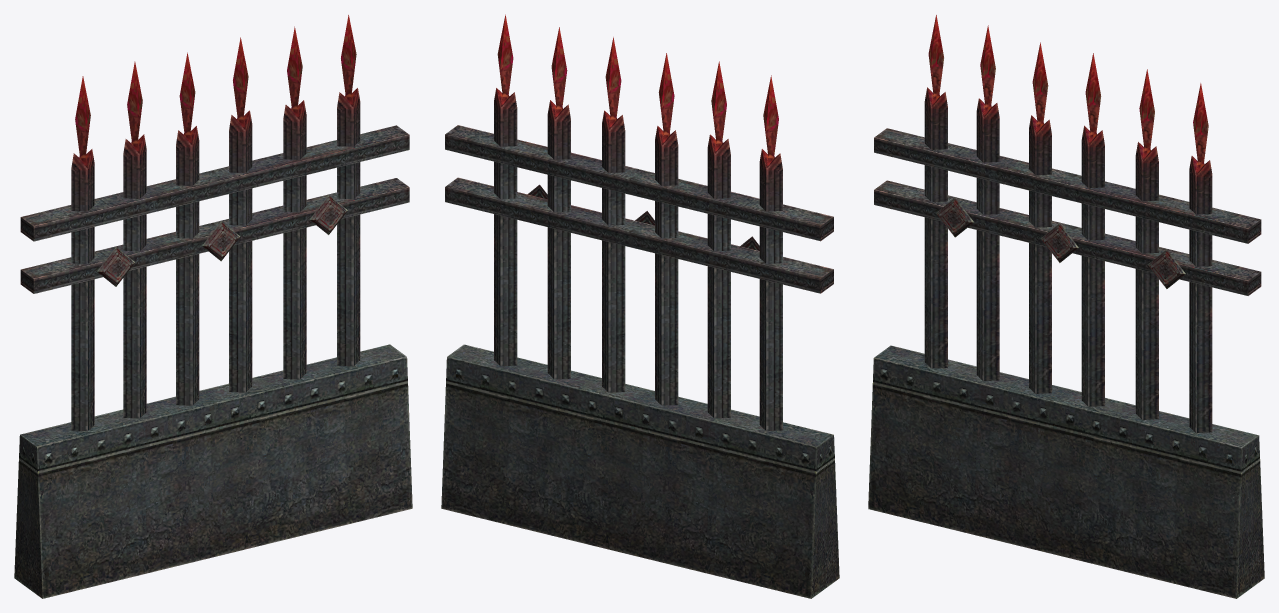
File: flame_fence_01.fbx
3 views of the same model, side by side, from view 1: azimuth 30°, elevation 25°; view 2: azimuth 150°, elevation 25°; view 3: azimuth 330°, elevation 25° (orthographic).
Visible parts, largest first — view 1: flame_fence_01; view 2: flame_fence_01; view 3: flame_fence_01.
Boxes of the visible parts, left/top/right/bottom form: flame_fence_01: left=14, top=15, right=412, bottom=598; flame_fence_01: left=441, top=14, right=839, bottom=598; flame_fence_01: left=868, top=15, right=1264, bottom=598.
Size of the model in its own units: 8.35 by 10.65 by 1.09.
